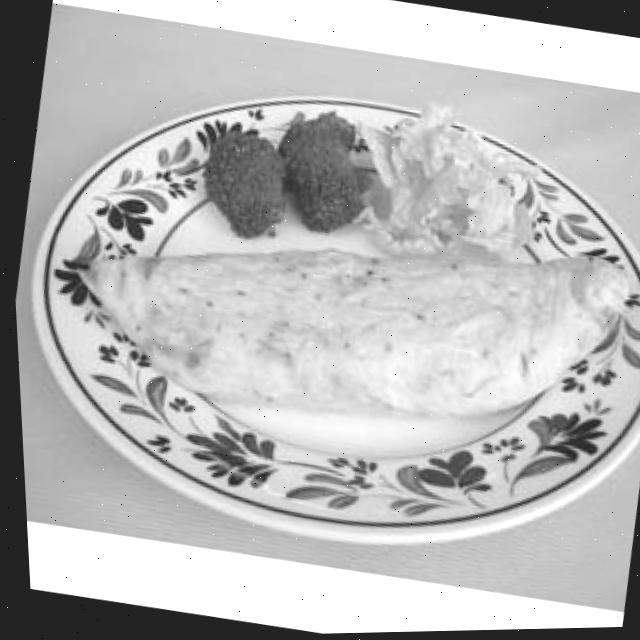鸡蛋料理: (6, 131, 640, 517)
